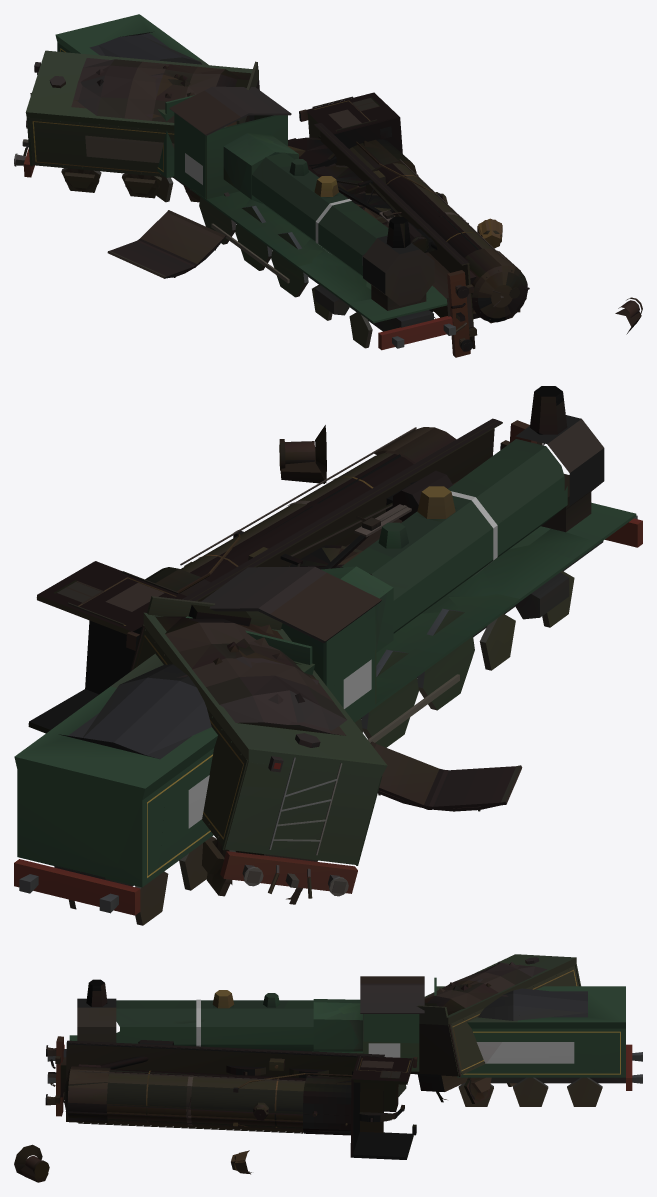
The model's file is train_any_steam_loco_fractured.glb.
3 views of the same model, one above another, from view 1: azimuth 30°, elevation 25°; view 2: azimuth 150°, elevation 25°; view 3: azimuth 270°, elevation 25° (orthographic). The views are drawn at different scales.
Visible parts, largest first — view 1: train_any_steam_loco_RUIN_LOD0_mesh, train_any_steam_loco_DMG_mesh, train_any_steam_loco_RUIN_LOD1_mesh, train_any_steam_loco_RUIN_LOD1_loose_cab_roof_mesh, train_any_steam_loco_FRAC_06_mesh, train_any_steam_loco_DMG_cab_roof_mesh, train_any_steam_loco_FRAC_00_mesh, train_any_steam_loco_RUIN_LOD2_mesh, train_any_steam_loco_FRAC_04_mesh, train_any_steam_loco_FRAC_32_mesh, train_any_steam_loco_FRAC_30_mesh, train_any_steam_loco_FRAC_19_mesh (+8 smaller); view 2: train_any_steam_loco_DMG_mesh, train_any_steam_loco_RUIN_LOD0_mesh, train_any_steam_loco_RUIN_LOD1_mesh, train_any_steam_loco_FRAC_05_mesh, train_any_steam_loco_DMG_cab_roof_mesh, train_any_steam_loco_RUIN_LOD2_mesh, train_any_steam_loco_RUIN_LOD1_loose_cab_roof_mesh, train_any_steam_loco_FRAC_00_mesh, train_any_steam_loco_FRAC_04_mesh, train_any_steam_loco_FRAC_16_mesh, train_any_steam_loco_FRAC_24_mesh, train_any_steam_loco_FRAC_19_mesh (+12 smaller); view 3: train_any_steam_loco_RUIN_LOD0_mesh, train_any_steam_loco_DMG_mesh, train_any_steam_loco_RUIN_LOD1_mesh, train_any_steam_loco_FRAC_10_mesh, train_any_steam_loco_RUIN_LOD2_mesh, train_any_steam_loco_FRAC_12_mesh, train_any_steam_loco_DMG_cab_roof_mesh, train_any_steam_loco_FRAC_09_mesh, train_any_steam_loco_FRAC_03_mesh, train_any_steam_loco_FRAC_16_mesh, train_any_steam_loco_FRAC_29_mesh, train_any_steam_loco_FRAC_19_mesh (+8 smaller).
Boxes of the visible parts, box(x1,y1,x2,y2) form: train_any_steam_loco_RUIN_LOD0_mesh: box(14, 58, 529, 351); train_any_steam_loco_DMG_mesh: box(56, 14, 455, 349); train_any_steam_loco_RUIN_LOD1_mesh: box(14, 50, 526, 357); train_any_steam_loco_RUIN_LOD1_loose_cab_roof_mesh: box(108, 212, 223, 278); train_any_steam_loco_FRAC_06_mesh: box(158, 145, 249, 241); train_any_steam_loco_DMG_cab_roof_mesh: box(169, 86, 291, 135); train_any_steam_loco_FRAC_00_mesh: box(225, 197, 309, 291); train_any_steam_loco_RUIN_LOD2_mesh: box(85, 73, 520, 315); train_any_steam_loco_FRAC_04_mesh: box(298, 220, 364, 292); train_any_steam_loco_FRAC_32_mesh: box(218, 115, 278, 166); train_any_steam_loco_FRAC_30_mesh: box(174, 112, 217, 164); train_any_steam_loco_FRAC_19_mesh: box(363, 235, 419, 294); train_any_steam_loco_DMG_mesh: box(14, 386, 642, 925); train_any_steam_loco_RUIN_LOD0_mesh: box(28, 418, 544, 899); train_any_steam_loco_RUIN_LOD1_mesh: box(28, 426, 542, 904); train_any_steam_loco_FRAC_05_mesh: box(104, 677, 217, 874); train_any_steam_loco_DMG_cab_roof_mesh: box(201, 566, 381, 642); train_any_steam_loco_RUIN_LOD2_mesh: box(41, 450, 413, 884); train_any_steam_loco_RUIN_LOD1_loose_cab_roof_mesh: box(374, 744, 520, 809); train_any_steam_loco_FRAC_00_mesh: box(361, 603, 495, 742); train_any_steam_loco_FRAC_04_mesh: box(497, 462, 573, 601); train_any_steam_loco_FRAC_16_mesh: box(17, 717, 169, 879); train_any_steam_loco_FRAC_24_mesh: box(450, 511, 519, 618); train_any_steam_loco_FRAC_19_mesh: box(515, 415, 604, 507); train_any_steam_loco_RUIN_LOD0_mesh: box(45, 954, 580, 1158); train_any_steam_loco_DMG_mesh: box(47, 979, 642, 1106); train_any_steam_loco_RUIN_LOD1_mesh: box(46, 956, 576, 1159); train_any_steam_loco_FRAC_10_mesh: box(476, 1007, 602, 1087); train_any_steam_loco_RUIN_LOD2_mesh: box(61, 966, 578, 1133); train_any_steam_loco_FRAC_12_mesh: box(212, 1008, 282, 1049); train_any_steam_loco_DMG_cab_roof_mesh: box(360, 976, 424, 1013); train_any_steam_loco_FRAC_09_mesh: box(281, 999, 348, 1050); train_any_steam_loco_FRAC_03_mesh: box(457, 996, 522, 1077); train_any_steam_loco_FRAC_16_mesh: box(561, 995, 625, 1052); train_any_steam_loco_FRAC_29_mesh: box(364, 1014, 419, 1043); train_any_steam_loco_FRAC_19_mesh: box(77, 998, 116, 1042).
Bounding box in the file's own units: 11.56 × 4.18 × 20.88.
